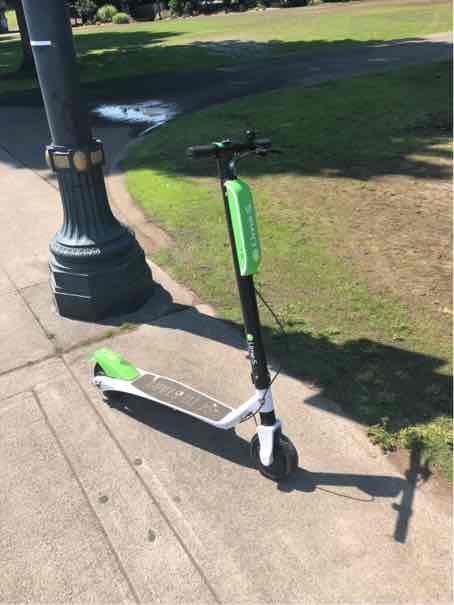scooter: (76, 125, 298, 486)
